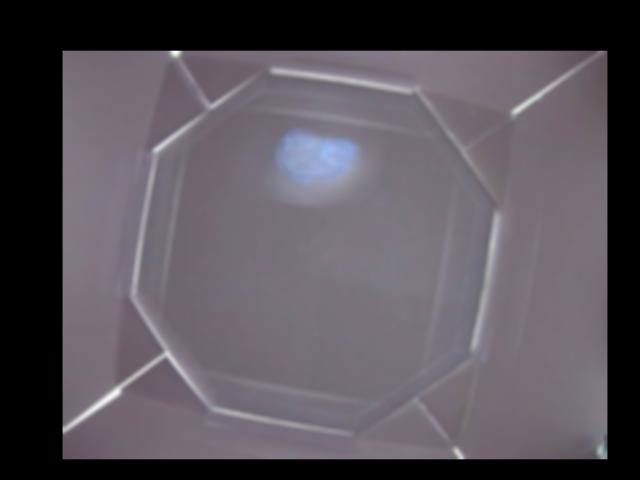Pebble: (277, 123, 362, 184)
